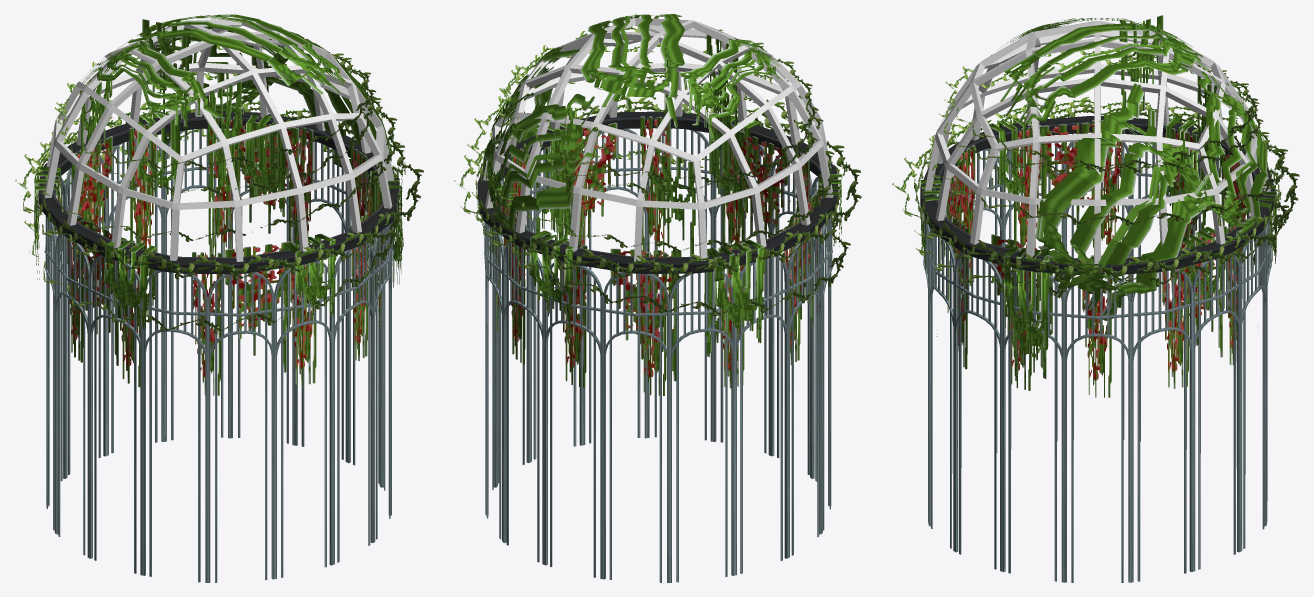
The model's file is garden dome.fbx.
The picture shows the model from 3 angles, left to right: view 1: azimuth 30°, elevation 25°; view 2: azimuth 150°, elevation 25°; view 3: azimuth 270°, elevation 25°; orthographic projection.
Parts seen in each view (by area): view 1: garden dome; view 2: garden dome; view 3: garden dome.
Boxes of the visible parts, <box> form: garden dome: <box>15,14,423,582</box>; garden dome: <box>454,14,861,582</box>; garden dome: <box>892,15,1299,582</box>.
Size of the model in its own units: 1586 by 2032 by 1585.
